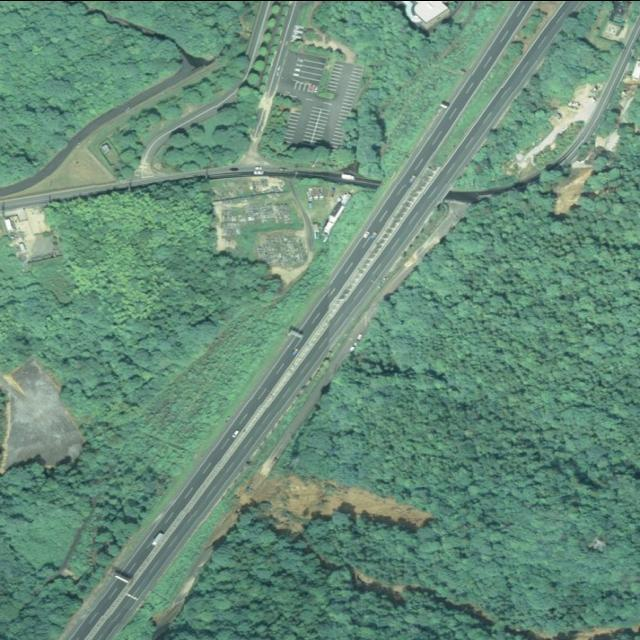landslide: (240, 474, 434, 534), (554, 167, 594, 214)
